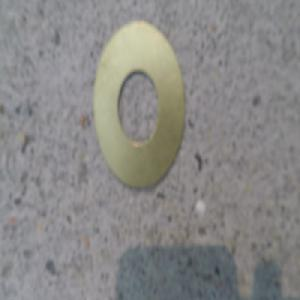Washer: (89, 21, 185, 191)
